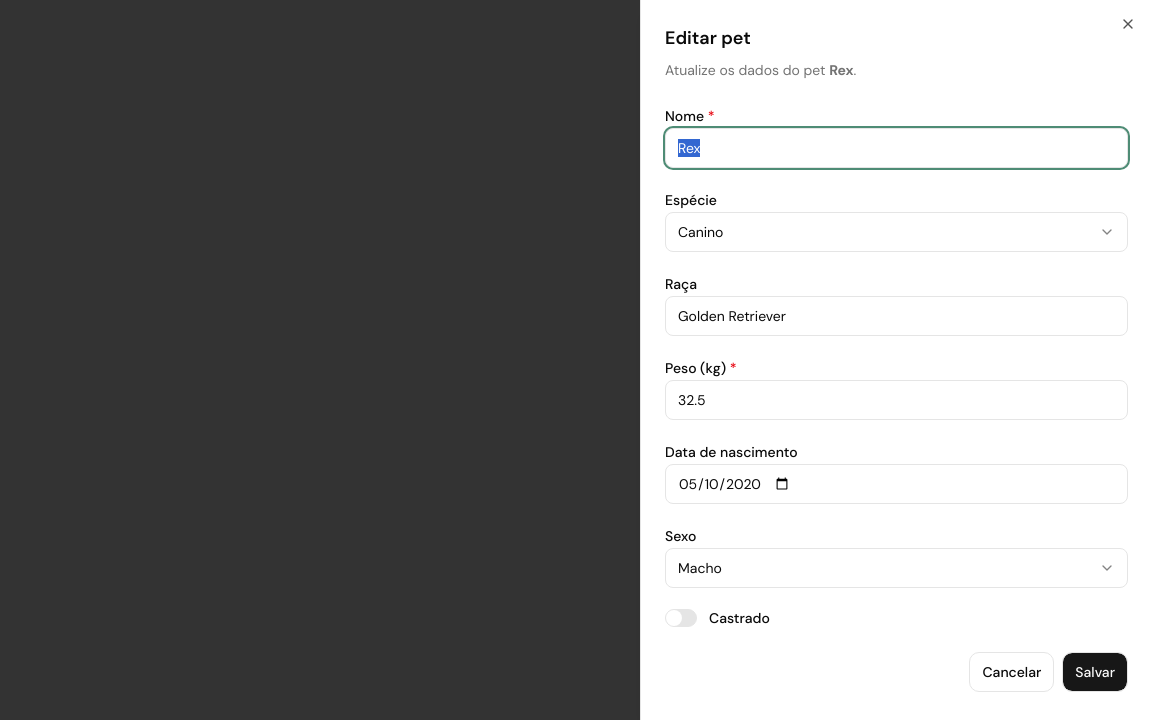
Test: EditPetDrawer › should show validation error when name is empty
The width and height of the screenshot is (1152, 720).
Step 1. Clear the field labelled "Nome *" → (896, 148), box left=665, top=128, right=1128, bottom=168
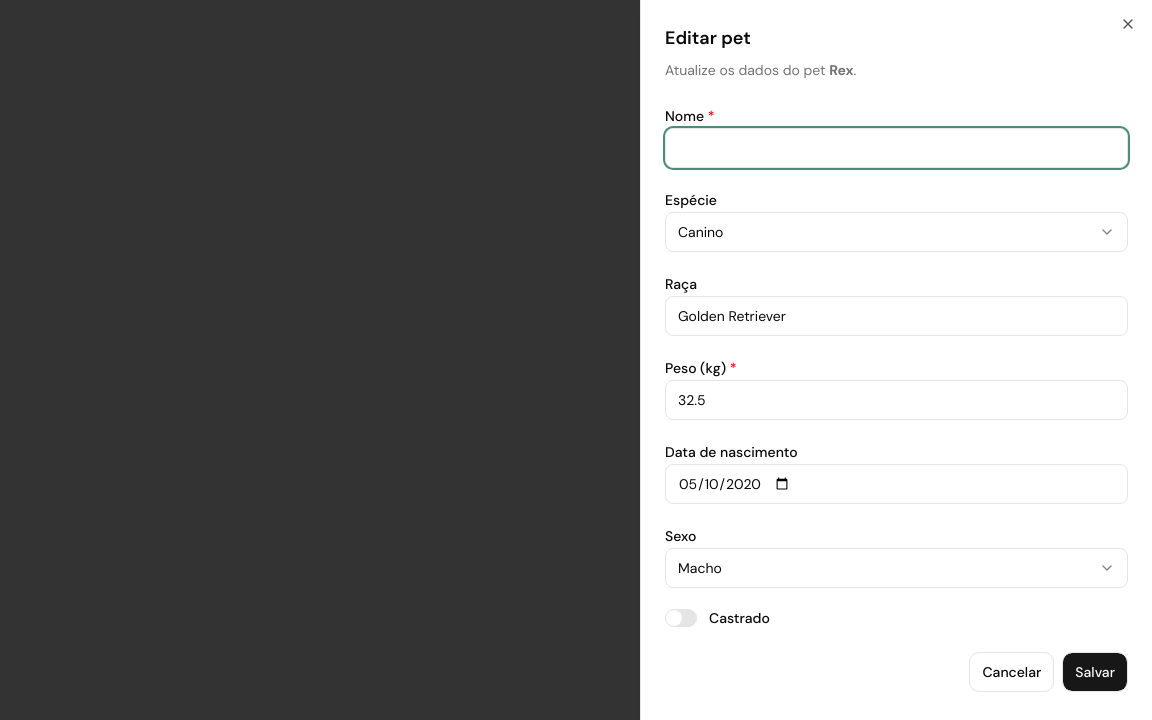
Step 2. Submit the form with id "edit-pet-form", box left=665, top=104, right=1128, bottom=628
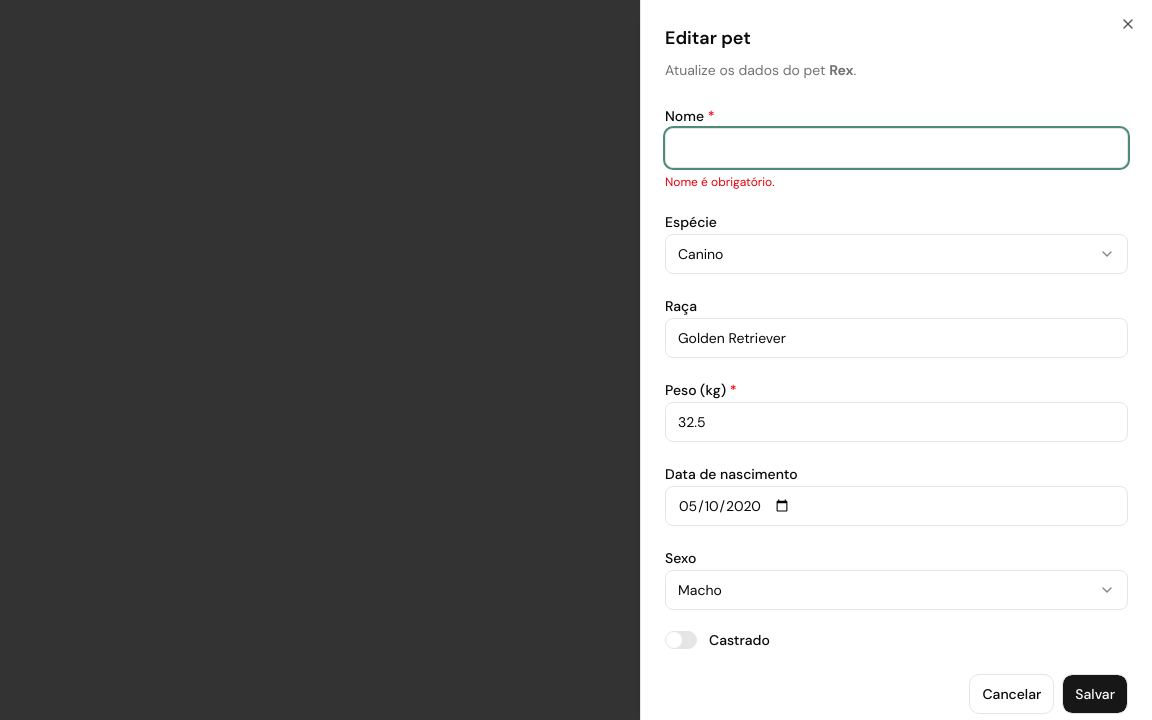
Expected: the text "Nome é obrigatório." is shown, left=665, top=174, right=775, bottom=190
